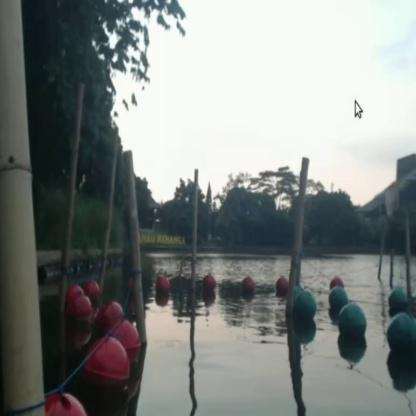green_buoy: (389, 316, 415, 357), (341, 313, 366, 352), (293, 288, 315, 328), (329, 288, 345, 313), (386, 293, 404, 314)
red_buoy: (84, 340, 126, 410), (120, 319, 140, 368), (98, 302, 121, 336), (72, 296, 92, 330), (240, 270, 255, 298), (154, 274, 170, 300), (204, 272, 218, 298), (86, 279, 98, 298), (275, 278, 286, 296), (72, 286, 82, 300)
